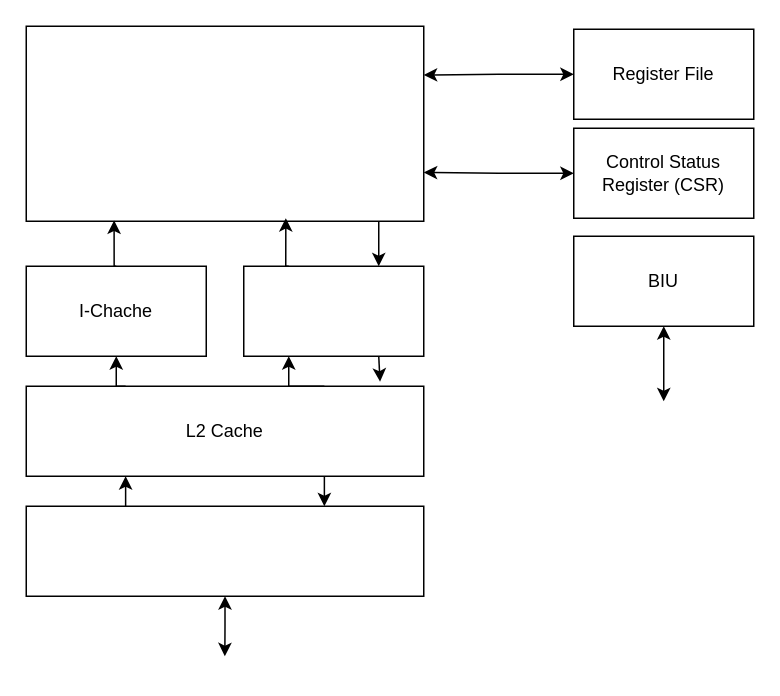
This 780x696 diagram has some shape labels left out. The shapes that lost their labels are listed below. From the top down, each one's centre as x and y in pixels, then its label:
At pixel 224 123: "Risc-V Engine Core".
At pixel 333 310: "D-Cache".
At pixel 224 550: "Memory Interface".
